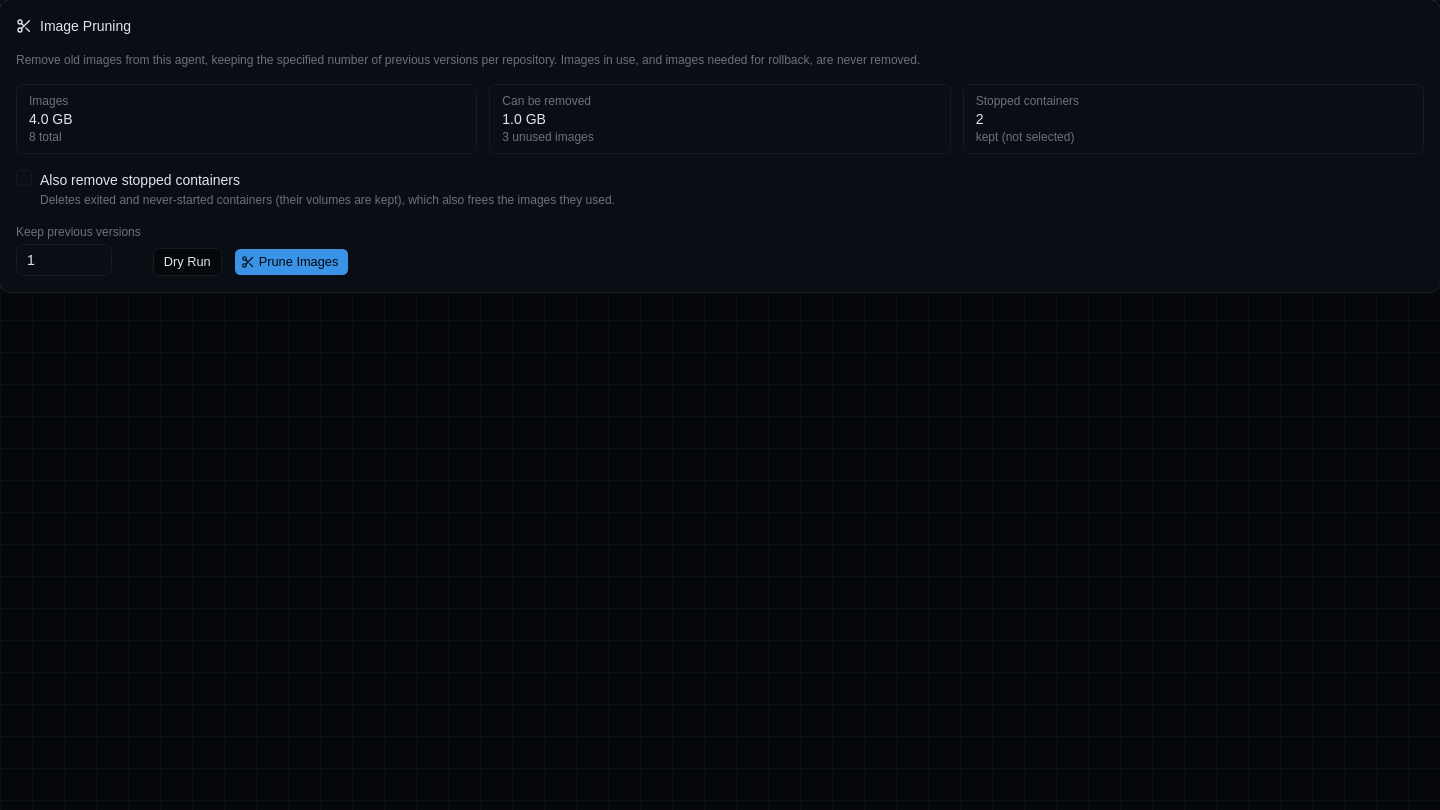
it: PruneCard › lists what a dry run would remove
Click the button "Dry Run".
click(187, 262)  # box [153,248,222,276]
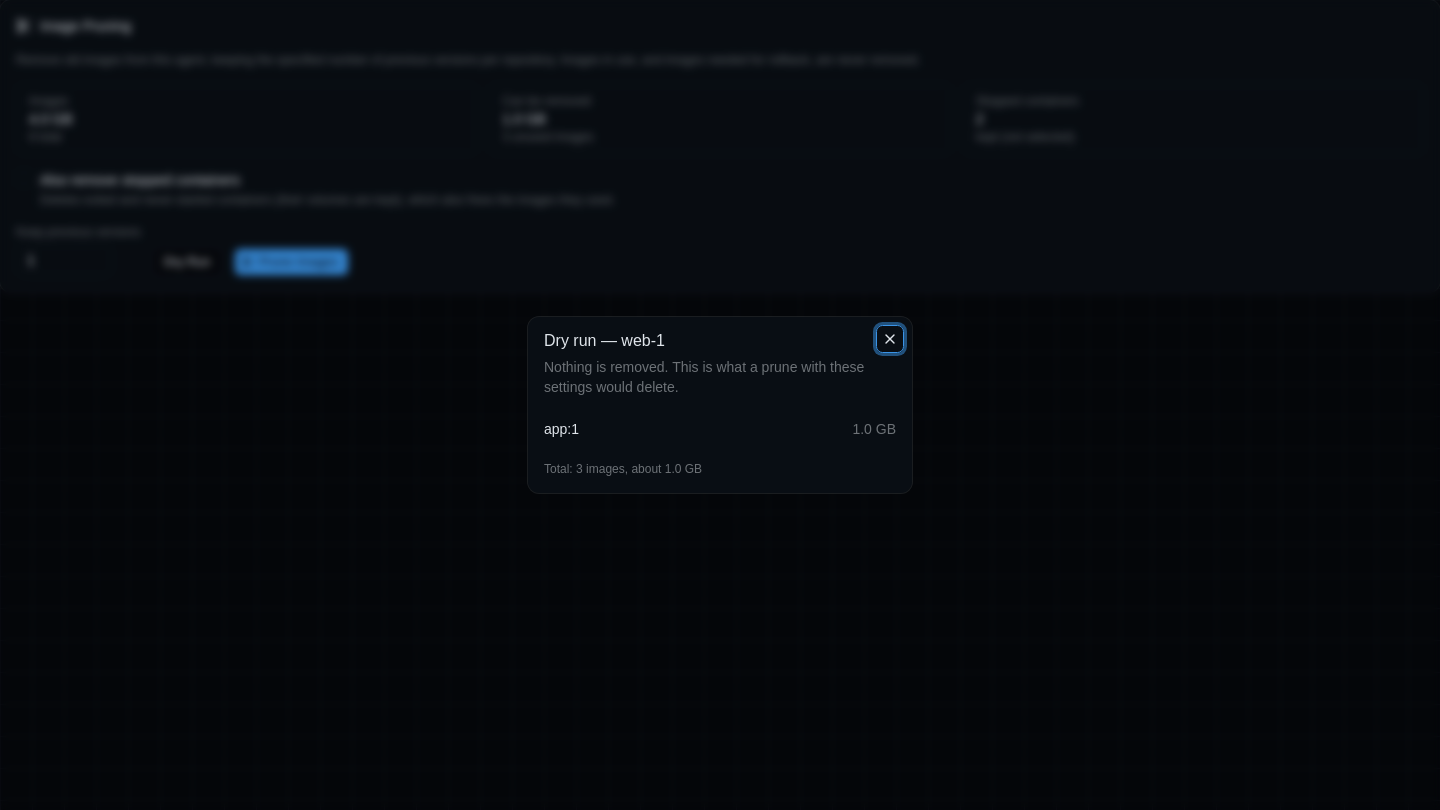
Result: the text "app:1" is shown at [544,419,579,439]
Result: the text "Nothing is removed" is shown at [544,359,864,395]
